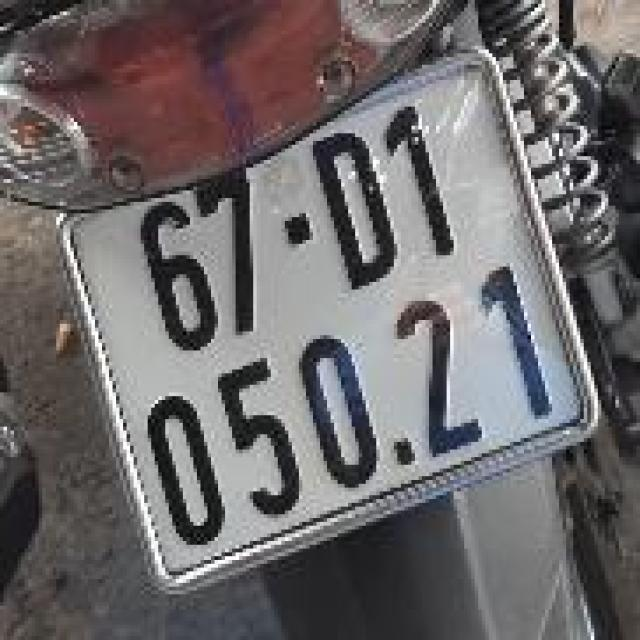0: (132, 377, 242, 560), (286, 318, 392, 500)
1: (467, 255, 561, 434), (372, 97, 463, 270)
2: (377, 286, 492, 467)
5: (207, 347, 318, 533)
6: (127, 190, 231, 368)
7: (188, 158, 297, 344)
D: (300, 119, 418, 304)
